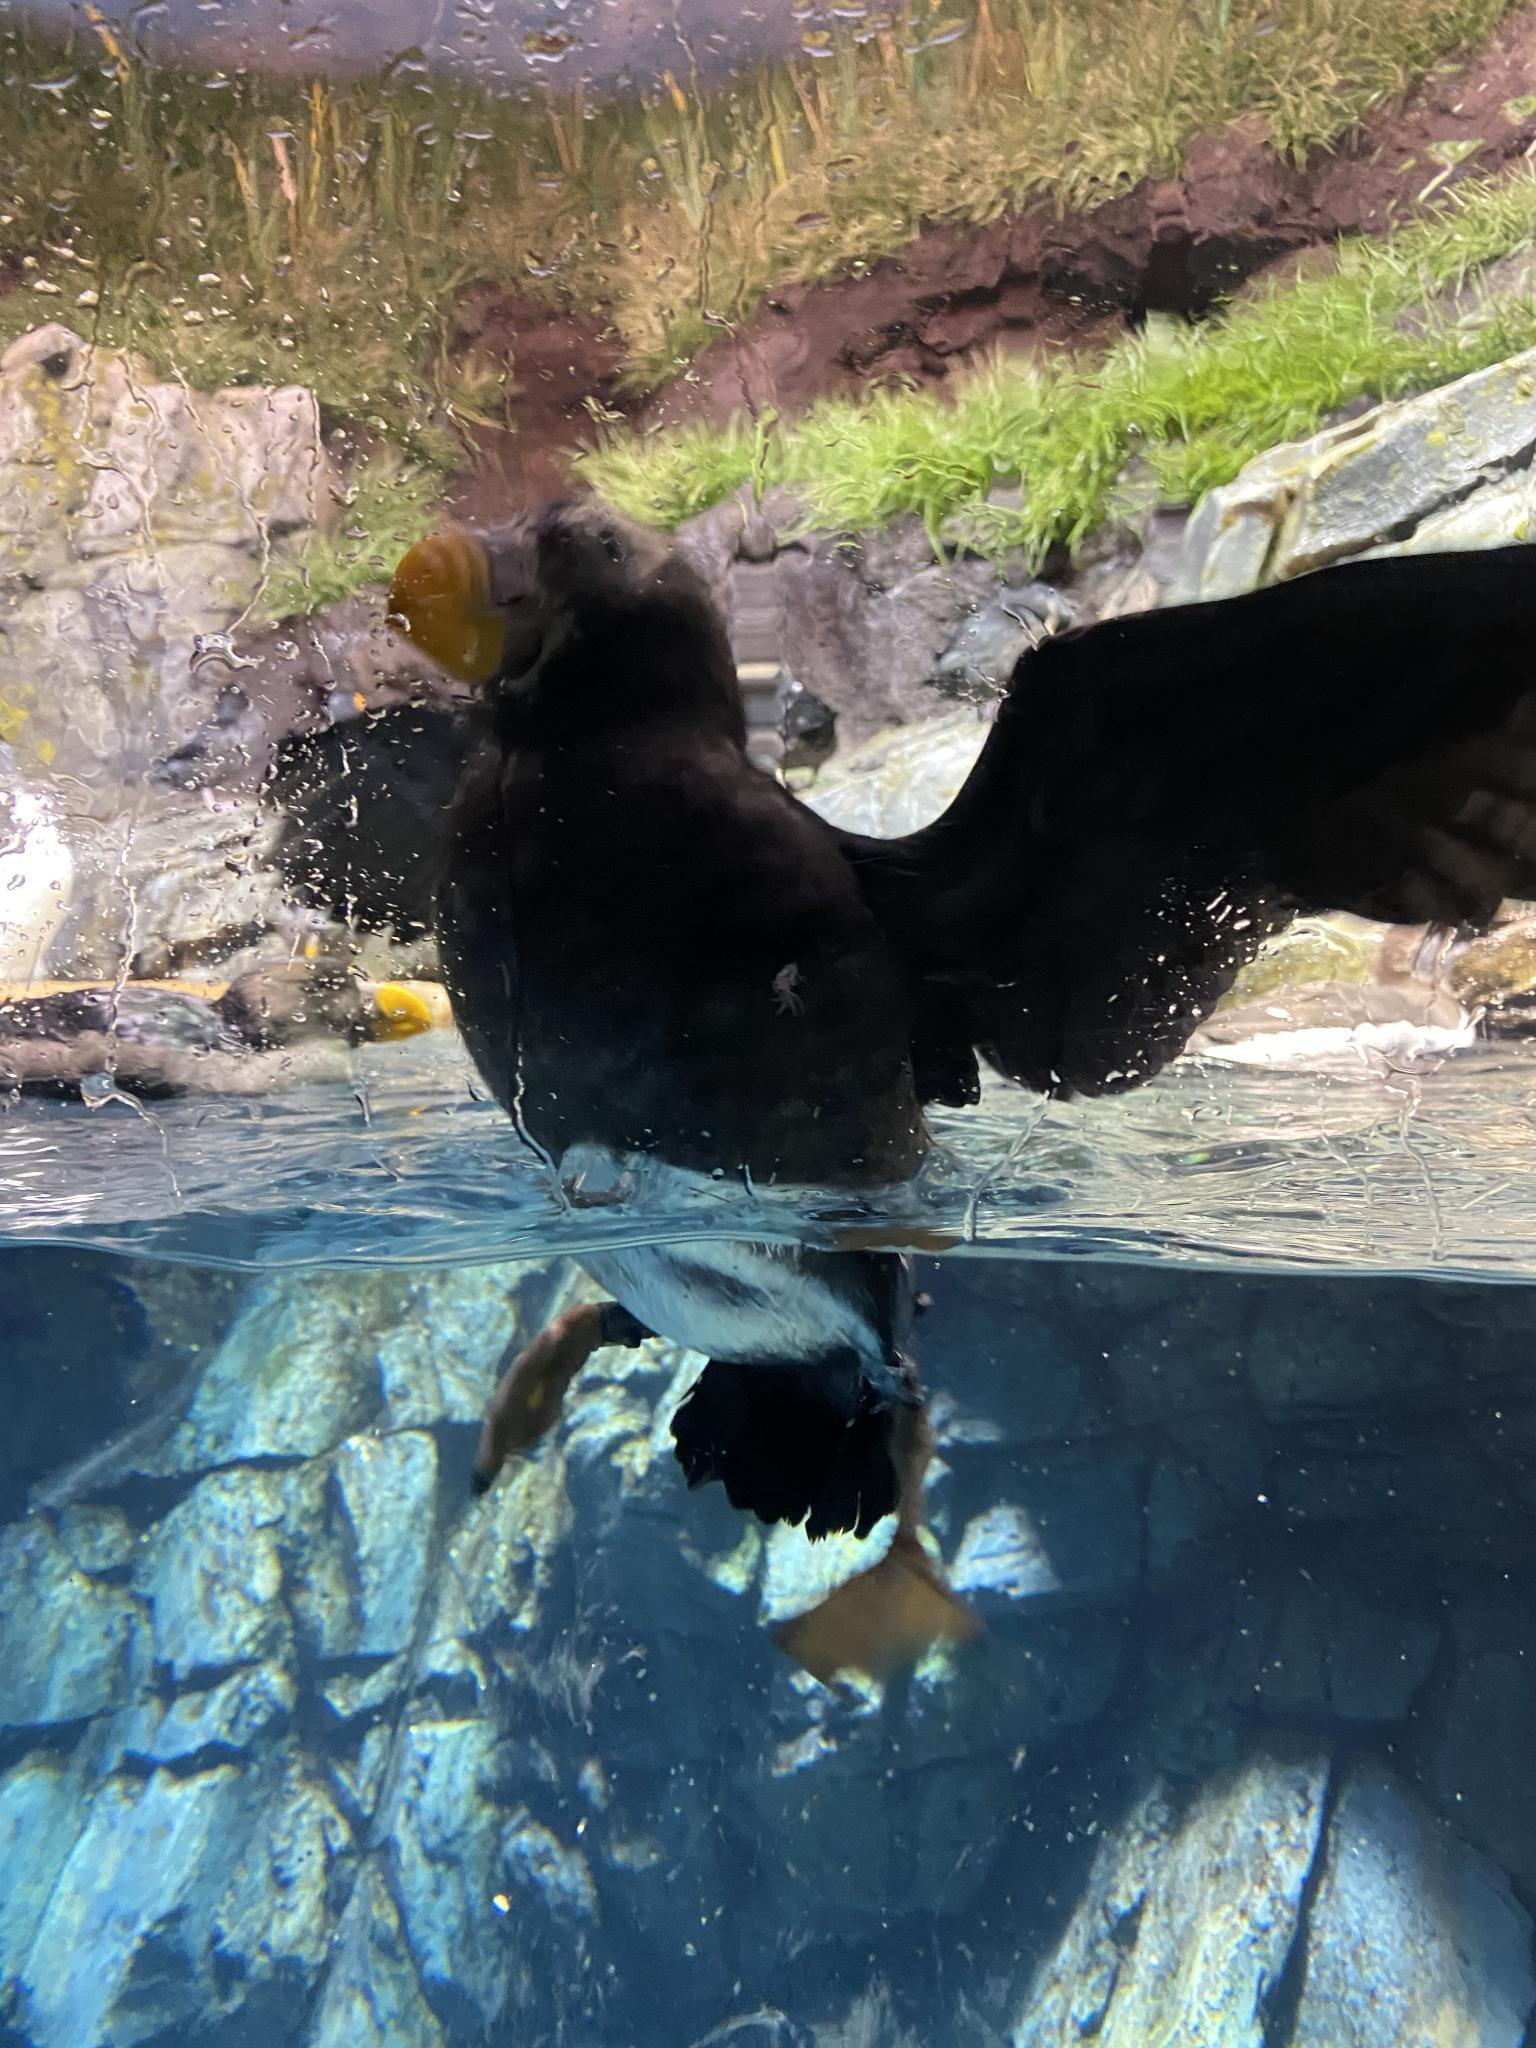puffin: (255, 452, 1534, 1688), (0, 948, 439, 1122)
